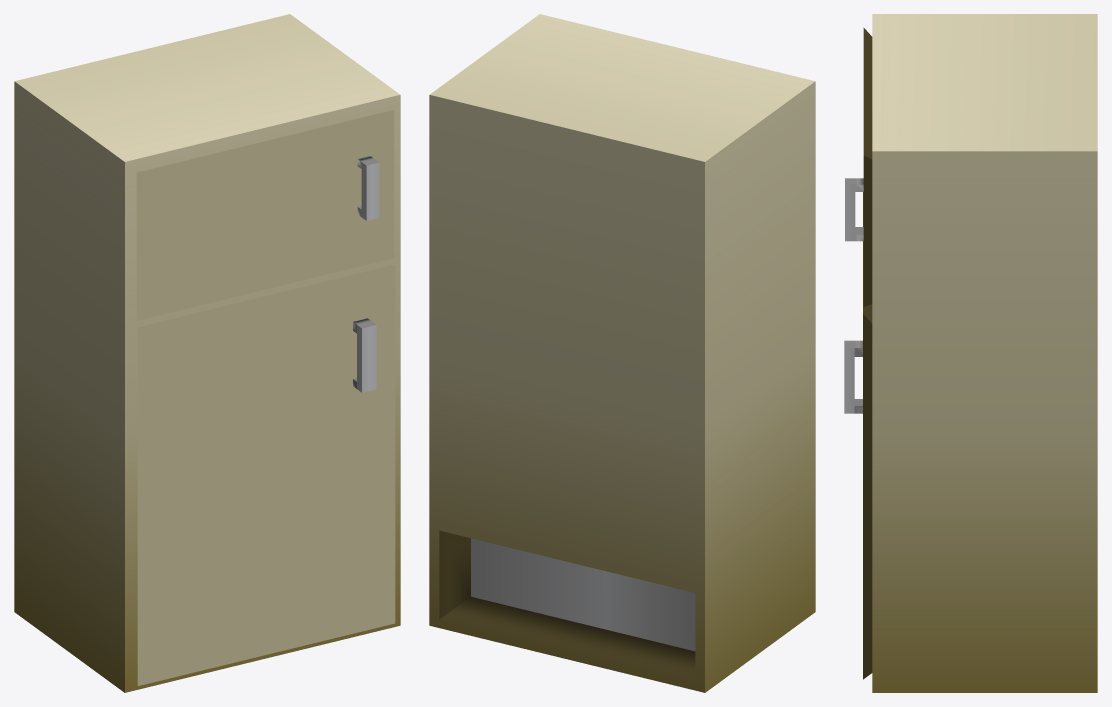
Rendered from heladeracontextura.fbx.
The picture shows the model from 3 angles, left to right: view 1: azimuth 30°, elevation 25°; view 2: azimuth 150°, elevation 25°; view 3: azimuth 270°, elevation 25°; orthographic projection. The views are drawn at different scales.
Parts seen in each view (by area): view 1: pCube6; view 2: pCube6; view 3: pCube6.
Part boxes in pixels (x1,y1,x2,y2): pCube6: [14, 14, 400, 692]; pCube6: [429, 14, 815, 692]; pCube6: [844, 14, 1097, 692].
Size of the model in its own units: 2.89 by 5.32 by 2.25.
1 material, 1 textured.
